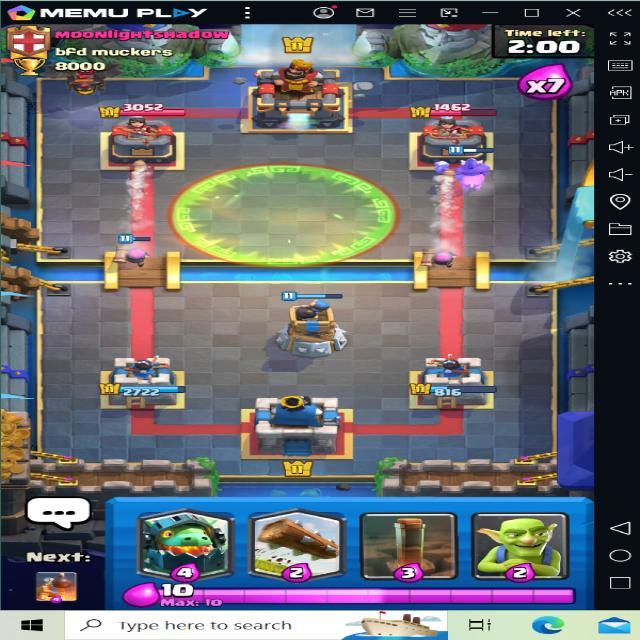goblin-curse: (171, 162, 397, 268)
lava-hound: (52, 63, 112, 101)
